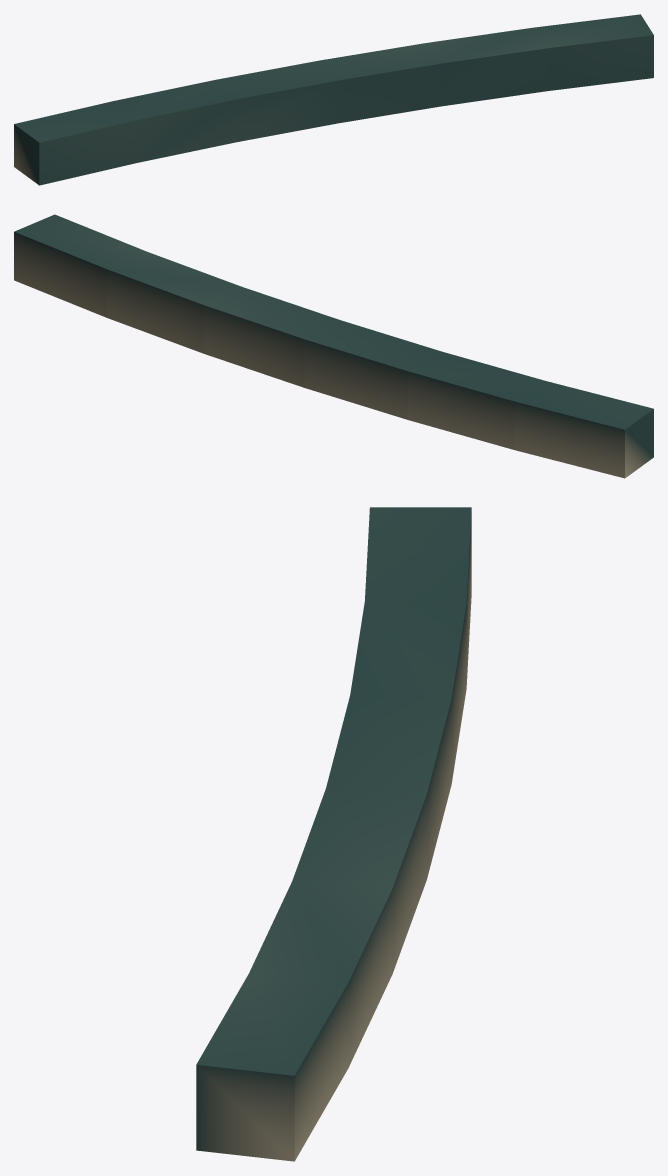
Rendered from arena_waking_rim_sector.glb.
3 views of the same model, one above another, from view 1: azimuth 30°, elevation 25°; view 2: azimuth 150°, elevation 25°; view 3: azimuth 270°, elevation 25° (orthographic). The views are drawn at different scales.
Parts seen in each view (by area): view 1: ReleaseRim; view 2: ReleaseRim; view 3: ReleaseRim.
Part boxes in pixels (x1,y1,x2,y2): ReleaseRim: (14,14,653,185); ReleaseRim: (14,214,653,478); ReleaseRim: (196,507,471,1161).
Size of the model in its own units: 9.24 by 0.65 by 1.89.
